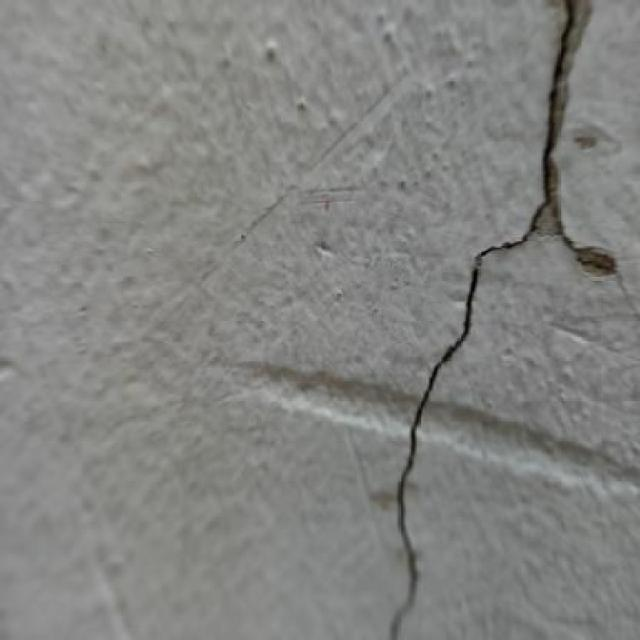GRIETA: (390, 0, 589, 639)
